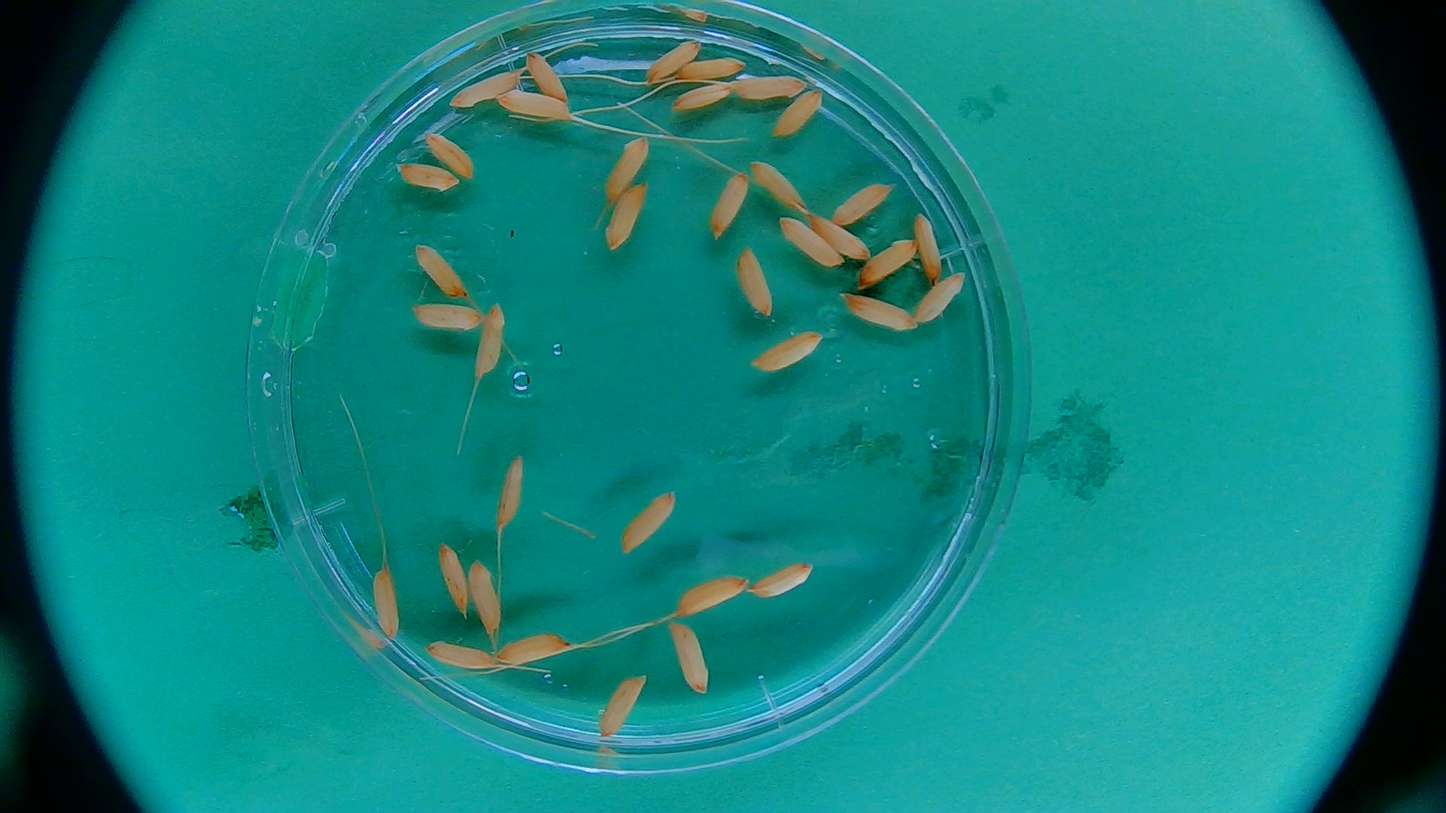no: (804, 206, 877, 266), (852, 239, 929, 291), (835, 287, 915, 336), (777, 213, 846, 269), (825, 178, 895, 232), (496, 628, 579, 673), (729, 247, 780, 317), (603, 175, 648, 253), (911, 273, 981, 323), (632, 41, 710, 85), (621, 489, 670, 559), (902, 212, 947, 288), (595, 669, 641, 743), (424, 637, 507, 678), (668, 620, 713, 695), (751, 329, 826, 373), (606, 128, 647, 207), (749, 157, 807, 212), (709, 161, 747, 241), (471, 559, 506, 644), (416, 245, 470, 300), (673, 574, 749, 611), (445, 72, 523, 108), (471, 300, 508, 375), (772, 87, 823, 139), (437, 537, 470, 617), (496, 87, 574, 120), (524, 48, 569, 105), (494, 454, 527, 531), (413, 298, 484, 333), (734, 70, 808, 103), (749, 562, 815, 598), (395, 158, 461, 193), (371, 565, 401, 641), (667, 56, 748, 84), (429, 132, 477, 179), (665, 84, 739, 114)
